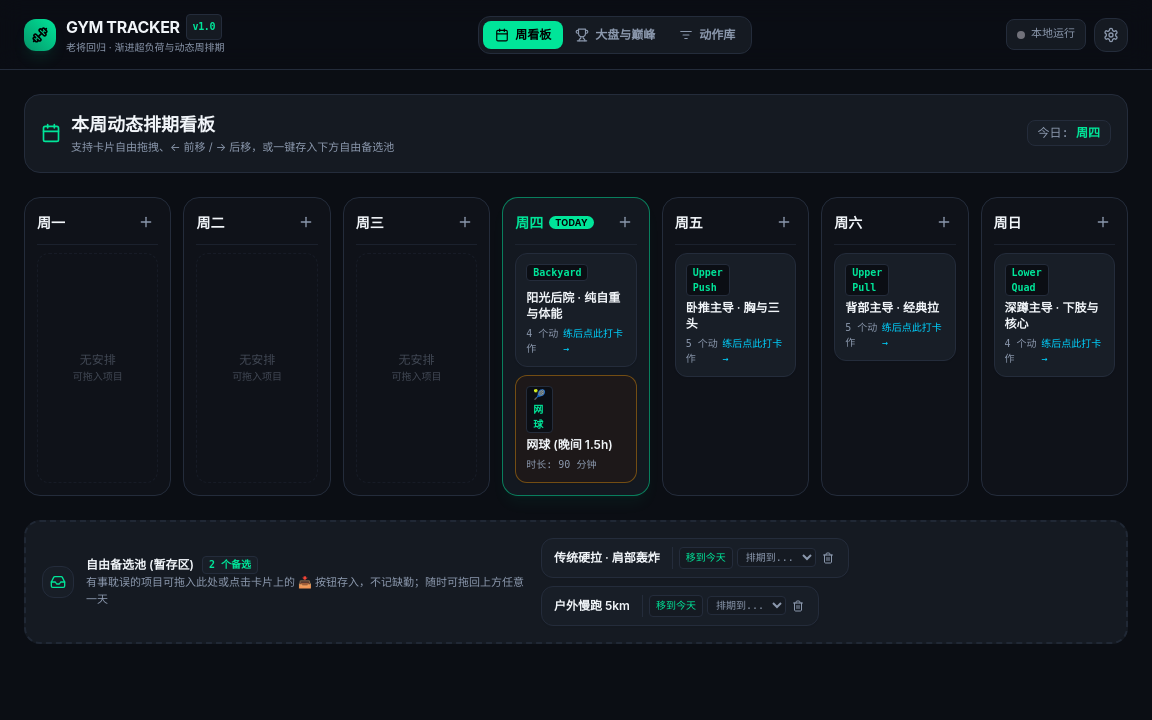
Scenario: App: workout logging › shows the exercises of whichever routine was opened last
This screenshot has width=1152, height=720.
Click the text "卧推主导 · 胸与三头" at (735, 314), box [675,252,796,376]
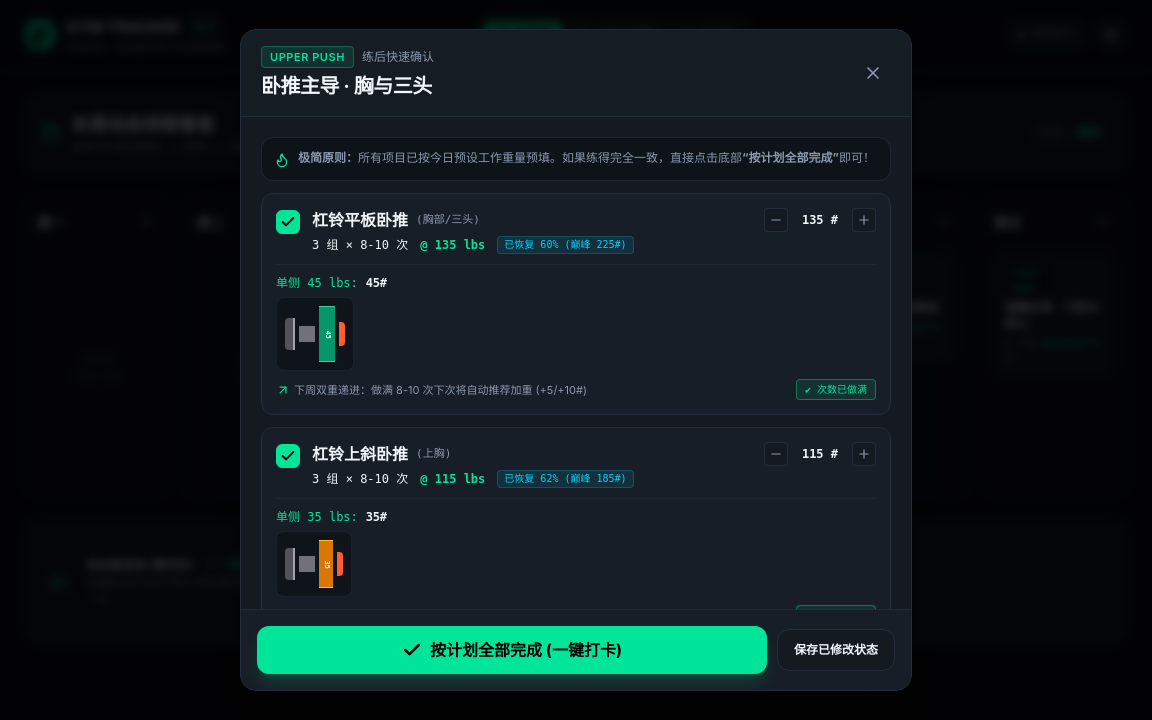
Result: the text "杠铃平板卧推" is shown at [312,208,408,232]
Click the button named "关闭" at (873, 73), box [855,55,891,91]
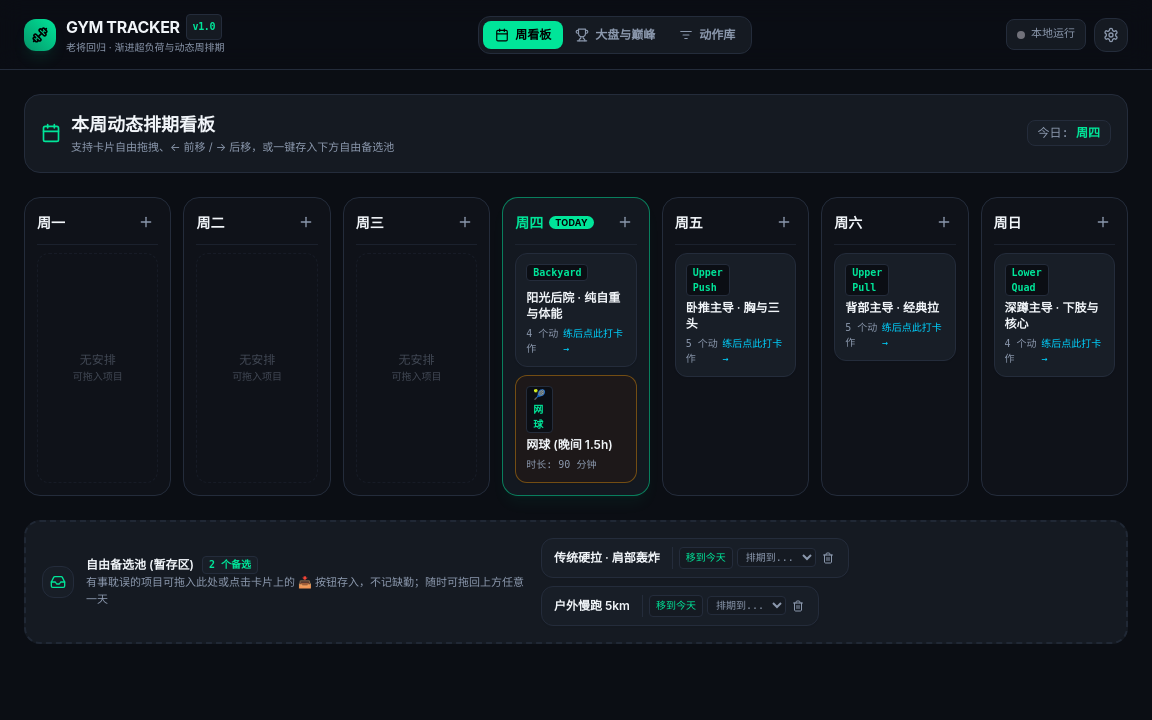
Click the text "背部主导 · 经典拉" at (895, 306), box [834,252,956,360]
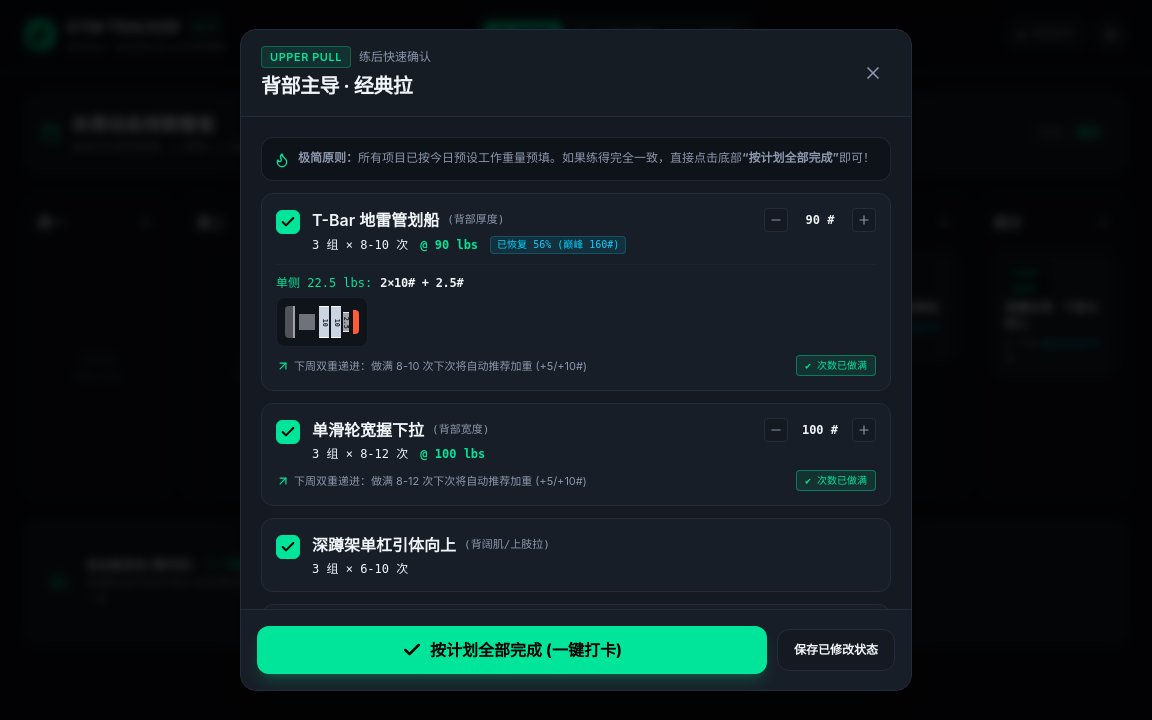
Expected: the text "杠铃平板卧推" is not shown
Result: the text "T-Bar 地雷管划船" is shown at [312,208,439,232]
